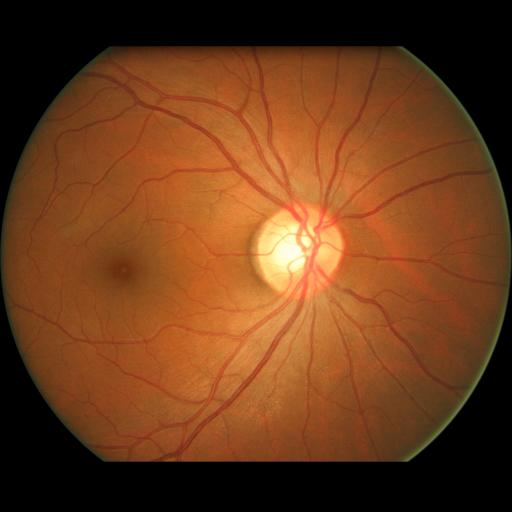Optic Cup: (274, 223, 318, 274)
Optic Disc: (257, 203, 343, 299)
